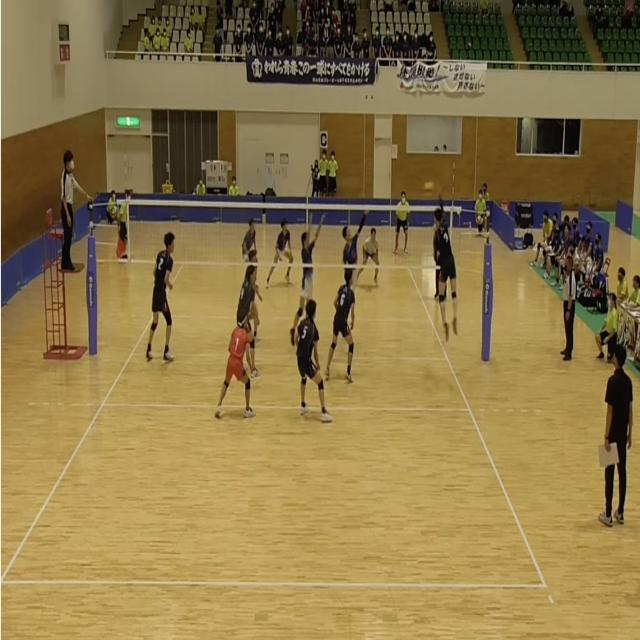spike: (417, 176, 468, 351)
